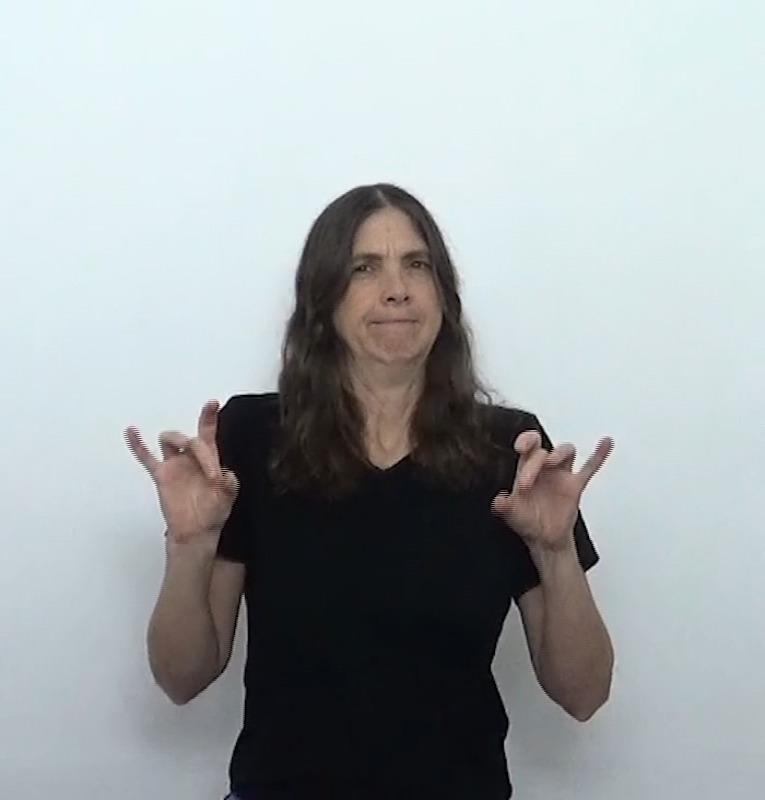Dolor: (98, 162, 633, 740)
